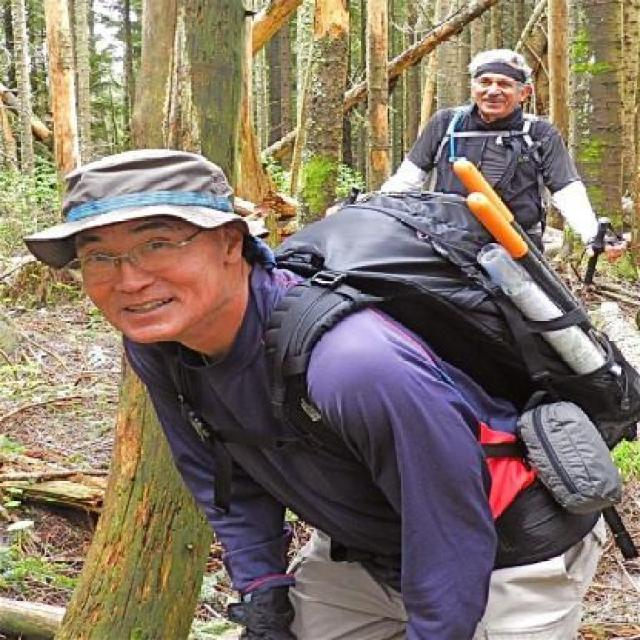backpack: (266, 152, 640, 530)
